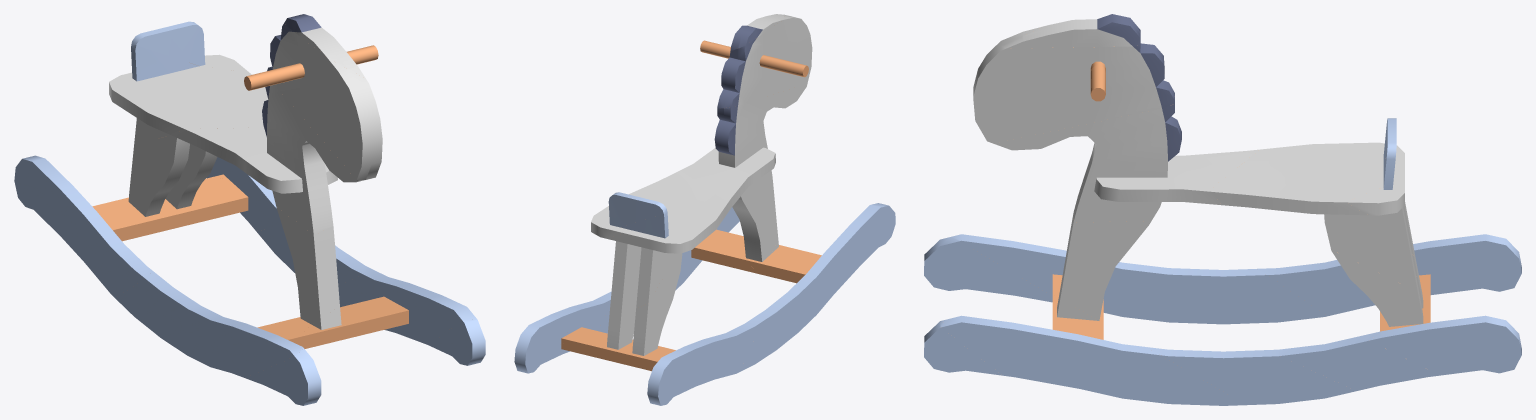
File: WoodenHorse_Pieces.fbx
3 renders of one model, left to right at view 1: azimuth 30°, elevation 25°; view 2: azimuth 150°, elevation 25°; view 3: azimuth 270°, elevation 25°, orthographic. The views are drawn at different scales.
Parts seen in each view (by area): view 1: WoodenHorse_Pieces.002, WoodenHorse_Pieces.009, WoodenHorse_Pieces.020, WoodenHorse_Pieces.021, WoodenHorse_Pieces.006, WoodenHorse_Pieces.010, WoodenHorse_Pieces.012, WoodenHorse_Pieces.007, WoodenHorse_Pieces, WoodenHorse_Pieces.017, WoodenHorse_Pieces.025, WoodenHorse_Pieces.001 (+10 smaller); view 2: WoodenHorse_Pieces.020, WoodenHorse_Pieces.002, WoodenHorse_Pieces.009, WoodenHorse_Pieces.021, WoodenHorse_Pieces.006, WoodenHorse_Pieces.010, WoodenHorse_Pieces, WoodenHorse_Pieces.007, WoodenHorse_Pieces.014, WoodenHorse_Pieces.017, WoodenHorse_Pieces.001, WoodenHorse_Pieces.025 (+9 smaller); view 3: WoodenHorse_Pieces.009, WoodenHorse_Pieces.020, WoodenHorse_Pieces.012, WoodenHorse_Pieces.002, WoodenHorse_Pieces.006, WoodenHorse_Pieces.021, WoodenHorse_Pieces.015, WoodenHorse_Pieces.014, WoodenHorse_Pieces.010, WoodenHorse_Pieces.007, WoodenHorse_Pieces, WoodenHorse_Pieces.004 (+7 smaller).
Boxes of the visible parts, <box> form: WoodenHorse_Pieces.002: <box>109,45,268,135</box>; WoodenHorse_Pieces.009: <box>267,24,382,179</box>; WoodenHorse_Pieces.020: <box>115,271,303,377</box>; WoodenHorse_Pieces.021: <box>14,155,152,297</box>; WoodenHorse_Pieces.006: <box>262,85,364,235</box>; WoodenHorse_Pieces.010: <box>92,175,282,241</box>; WoodenHorse_Pieces.012: <box>338,268,476,345</box>; WoodenHorse_Pieces.007: <box>276,207,339,324</box>; WoodenHorse_Pieces: <box>172,127,337,193</box>; WoodenHorse_Pieces.017: <box>128,135,189,216</box>; WoodenHorse_Pieces.025: <box>293,296,408,348</box>; WoodenHorse_Pieces.001: <box>131,21,248,72</box>; WoodenHorse_Pieces.020: <box>739,205,884,371</box>; WoodenHorse_Pieces.002: <box>607,170,728,253</box>; WoodenHorse_Pieces.009: <box>717,14,812,108</box>; WoodenHorse_Pieces.021: <box>647,320,763,405</box>; WoodenHorse_Pieces.006: <box>714,84,807,200</box>; WoodenHorse_Pieces.010: <box>553,292,675,371</box>; WoodenHorse_Pieces: <box>680,147,775,217</box>; WoodenHorse_Pieces.007: <box>732,179,778,261</box>; WoodenHorse_Pieces.014: <box>514,305,581,373</box>; WoodenHorse_Pieces.017: <box>632,253,682,355</box>; WoodenHorse_Pieces.001: <box>591,192,666,238</box>; WoodenHorse_Pieces.025: <box>691,229,798,274</box>; WoodenHorse_Pieces.009: <box>973,26,1174,143</box>; WoodenHorse_Pieces.020: <box>951,234,1326,324</box>; WoodenHorse_Pieces.012: <box>941,315,1245,405</box>; WoodenHorse_Pieces.002: <box>1208,123,1404,215</box>; WoodenHorse_Pieces.006: <box>994,91,1181,222</box>; WoodenHorse_Pieces.021: <box>1256,234,1521,316</box>; WoodenHorse_Pieces.015: <box>1146,347,1356,405</box>; WoodenHorse_Pieces.014: <box>1369,315,1521,375</box>; WoodenHorse_Pieces.010: <box>1280,274,1439,390</box>; WoodenHorse_Pieces.007: <box>1058,217,1151,320</box>; WoodenHorse_Pieces: <box>1094,149,1259,205</box>; WoodenHorse_Pieces.004: <box>1324,207,1417,291</box>.
Bounding box in the file's own units: 33.8 × 61.45 × 96.83.
